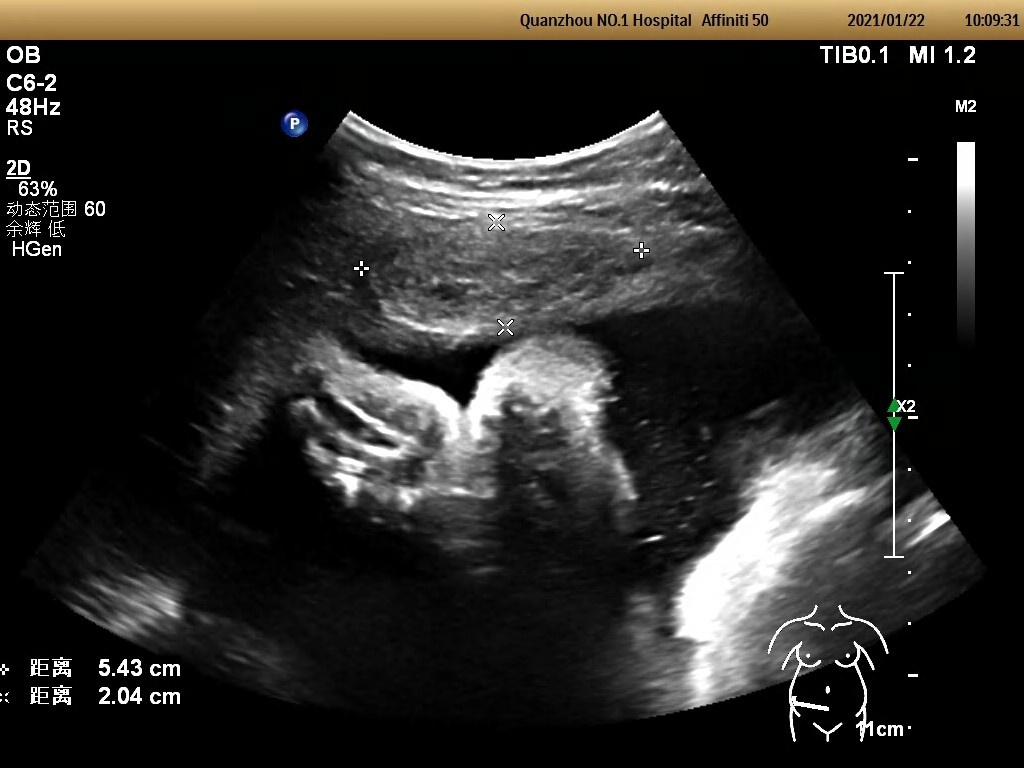肌瘤: (374, 222, 644, 318)
